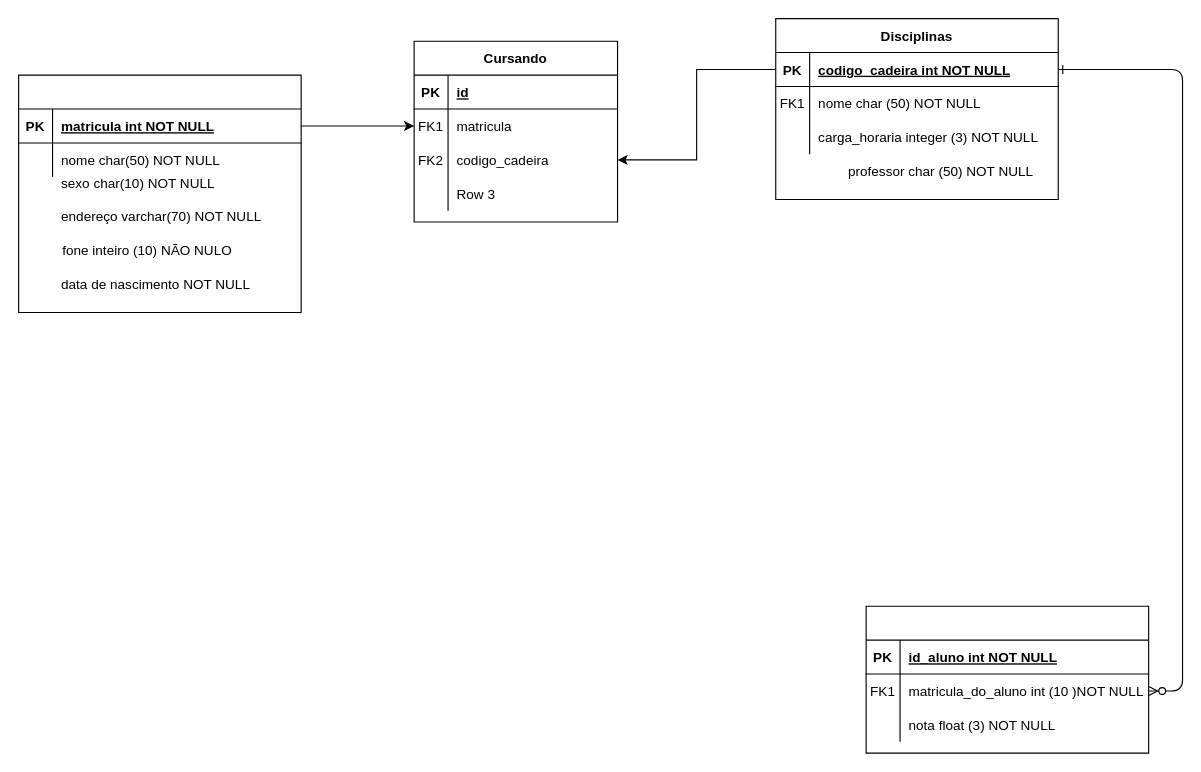
The diagram is 1201 pixels wide and 772 high, and some of its shapes have lost their labels. The box of each missing label's shape, as (x1, y1, x2, y2) in pixels:
alunos: (18, 74, 301, 312)
notas: (865, 605, 1149, 753)
